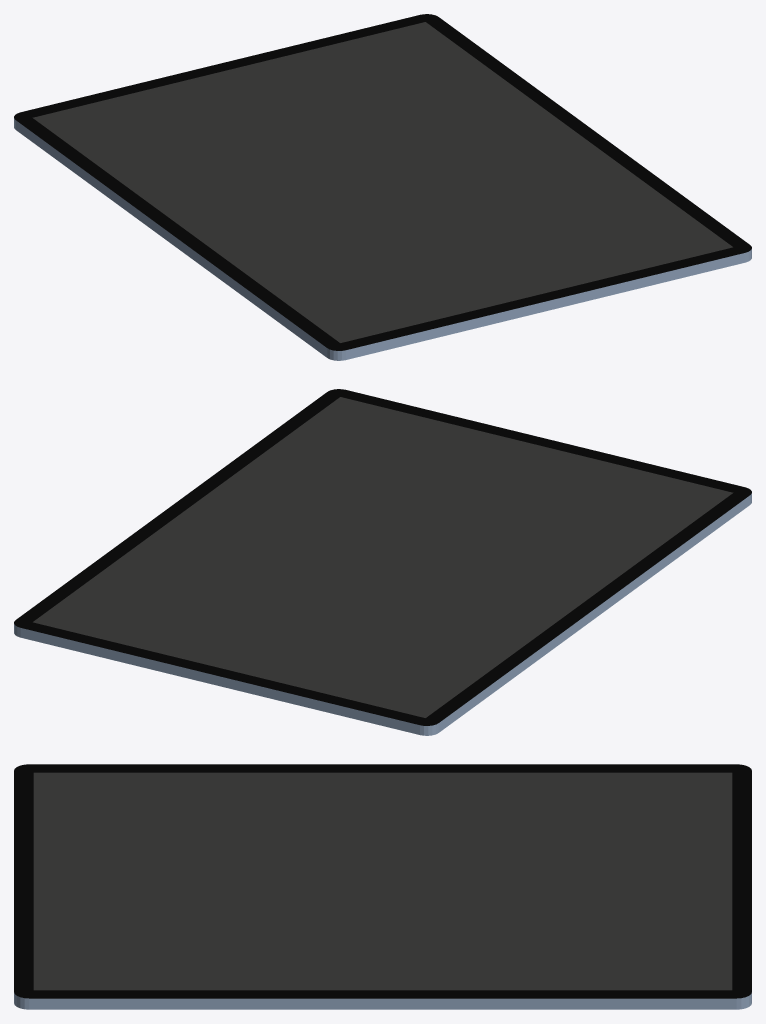
The model's file is iPad.fbx.
3 views of the same model, one above another, from view 1: azimuth 30°, elevation 25°; view 2: azimuth 150°, elevation 25°; view 3: azimuth 270°, elevation 25° (orthographic). The views are drawn at different scales.
Parts seen in each view (by area): view 1: iPad; view 2: iPad; view 3: iPad.
Boxes of the visible parts, left/top/right/bottom form: iPad: left=14, top=14, right=751, bottom=360; iPad: left=14, top=389, right=751, bottom=735; iPad: left=14, top=764, right=751, bottom=1009.
Size of the model in its own units: 45.78 by 1.02 by 60.96.
Materials: 1 (1 with a texture image).
